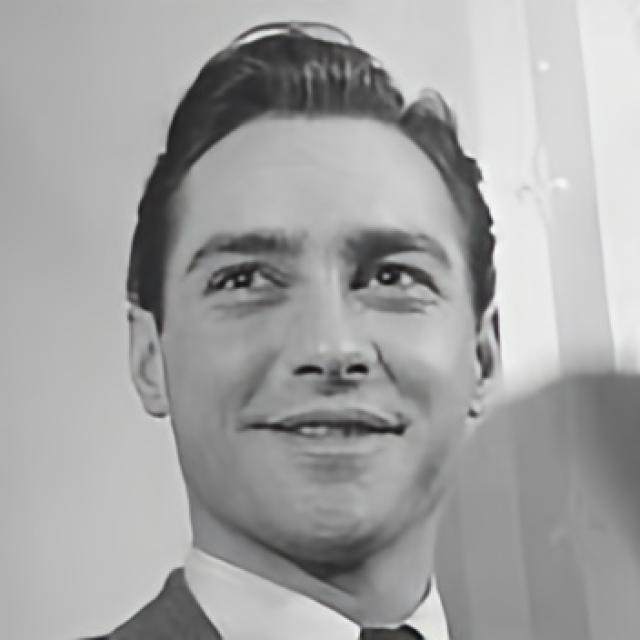happy: (163, 112, 474, 546)
